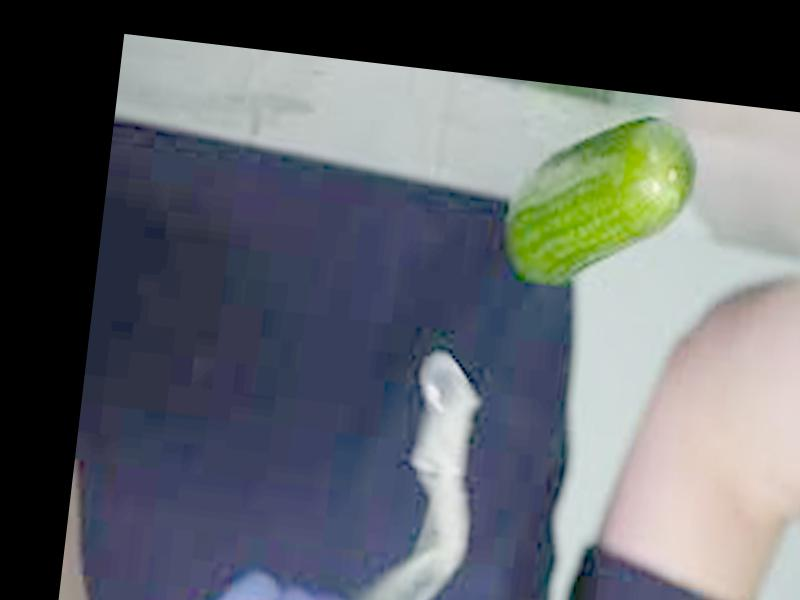Cucumber: (501, 101, 702, 299)
